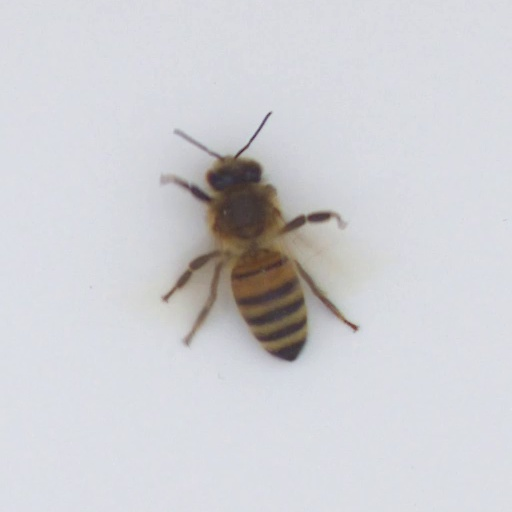Bee: (203, 149, 312, 358)
Thorax: (208, 188, 279, 241)
